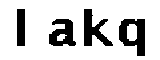a: (43, 17, 78, 51)
k: (82, 4, 116, 51)
l: (5, 6, 36, 52)
q: (116, 15, 150, 59)
